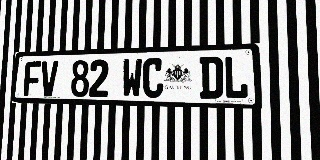2: (89, 59, 109, 97)
8: (70, 60, 90, 97)
C: (142, 58, 164, 98)
D: (200, 56, 223, 99)
F: (23, 61, 41, 96)
L: (224, 56, 248, 99)
V: (40, 61, 58, 96)
W: (122, 58, 142, 98)
